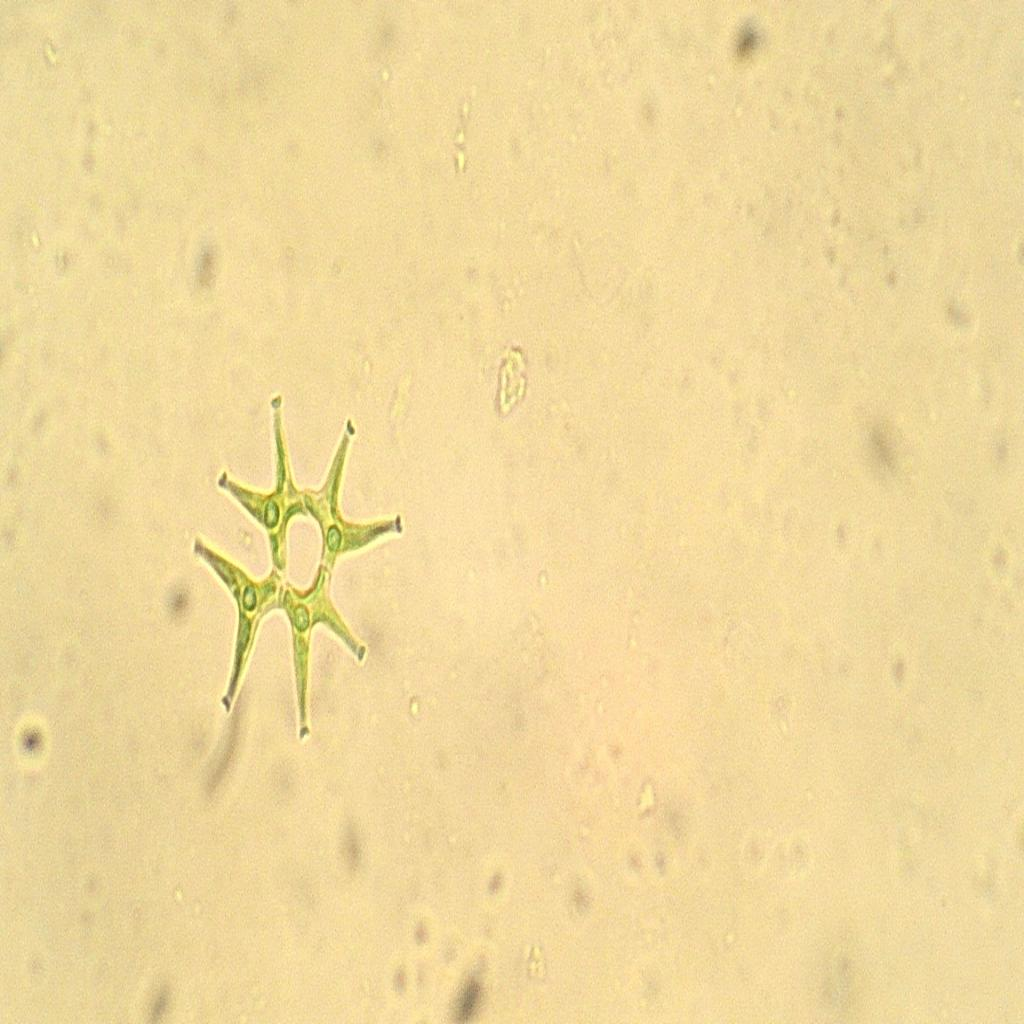Pediastrum_CT: (162, 380, 425, 764)
